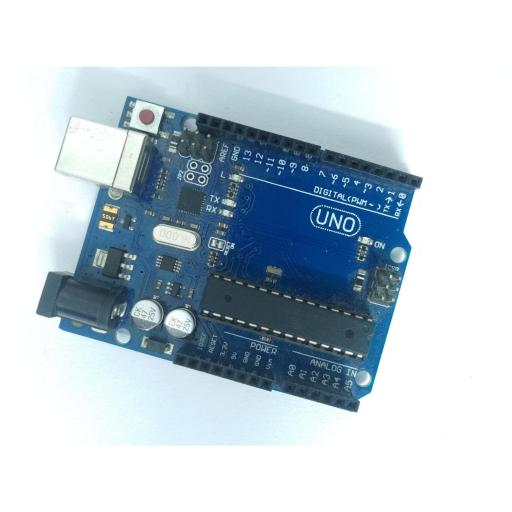Arduino Uno R3: (35, 94, 424, 414)
